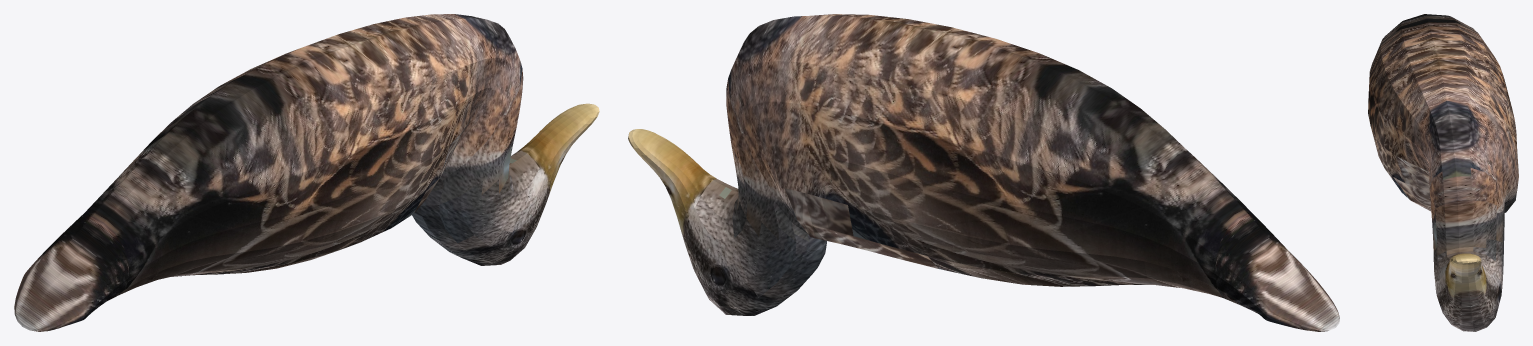
File: pato_texture.fbx
3 renders of one model, left to right at view 1: azimuth 30°, elevation 25°; view 2: azimuth 150°, elevation 25°; view 3: azimuth 270°, elevation 25°, orthographic. The views are drawn at different scales.
Visible parts, largest first — view 1: Cube; view 2: Cube; view 3: Cube.
Part boxes in pixels (left/top/right/bottom): Cube: left=14, top=14, right=599, bottom=331; Cube: left=628, top=14, right=1339, bottom=331; Cube: left=1368, top=14, right=1518, bottom=331.
Bounding box in the file's own units: 705 × 307 × 190.
Materials: 1 (1 with a texture image).
